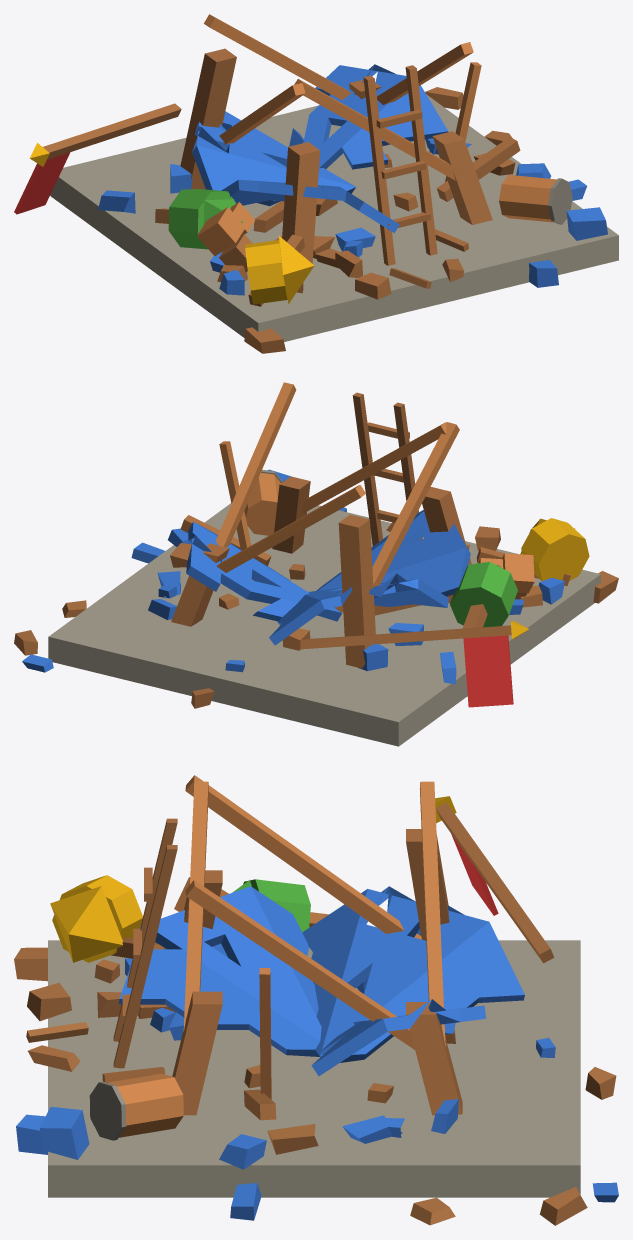
The model's file is defense_tower_t1_v2_dmg2.glb.
3 renders of one model, top to bottom at view 1: azimuth 30°, elevation 25°; view 2: azimuth 150°, elevation 25°; view 3: azimuth 270°, elevation 25°, orthographic. The views are drawn at different scales.
Visible parts, largest first — view 1: defense_tower_t1_v2_dmg2; view 2: defense_tower_t1_v2_dmg2; view 3: defense_tower_t1_v2_dmg2.
Part boxes in pixels (<box>): defense_tower_t1_v2_dmg2: <box>14,14,618,353</box>; defense_tower_t1_v2_dmg2: <box>14,382,618,746</box>; defense_tower_t1_v2_dmg2: <box>14,775,618,1225</box>.
Bounding box in the file's own units: 0.8047 × 0.3164 × 0.6814.
Materials: 1 (1 with a texture image).
